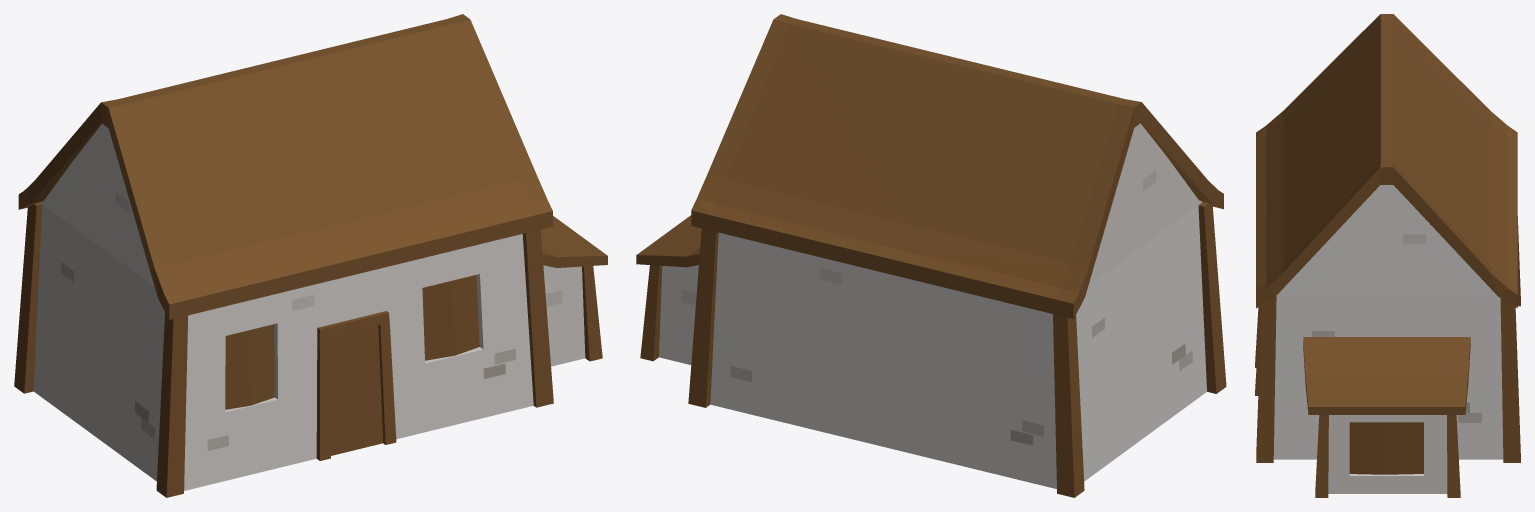
File: Casa1.FBX
The picture shows the model from 3 angles, left to right: view 1: azimuth 30°, elevation 25°; view 2: azimuth 150°, elevation 25°; view 3: azimuth 270°, elevation 25°; orthographic projection. The views are drawn at different scales.
Visible parts, largest first — view 1: Box006; view 2: Box006; view 3: Box006.
Part boxes in pixels (bbox=[...]): Box006: bbox=[14, 14, 607, 497]; Box006: bbox=[636, 14, 1226, 497]; Box006: bbox=[1255, 14, 1520, 497].
Bounding box in the file's own units: 63.66 × 43.18 × 35.82.
1 material, 1 textured.
